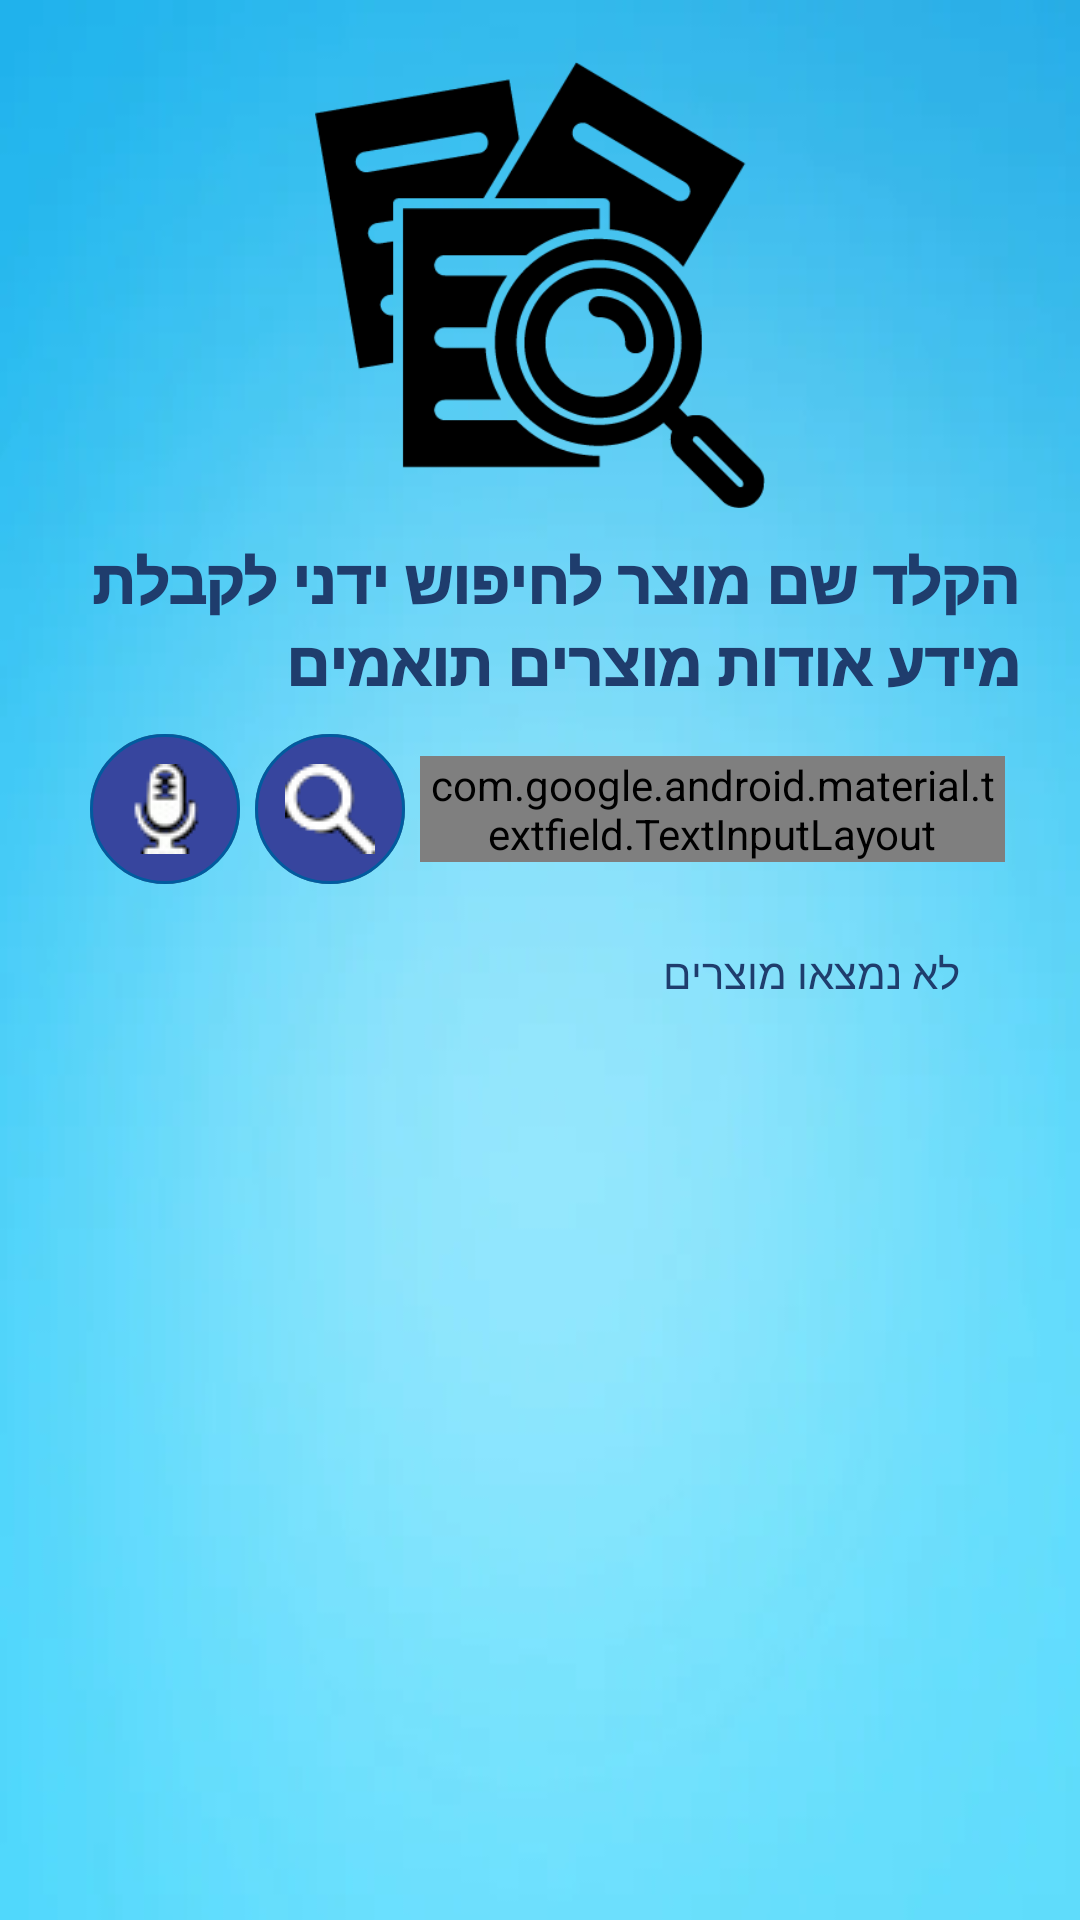

Screen size 1080*1920. Icon name, then its center in pixels as [x,y]:
דיבור לטקסט: [165,809]
כפתור חיפוש מוצר: [330,809]
